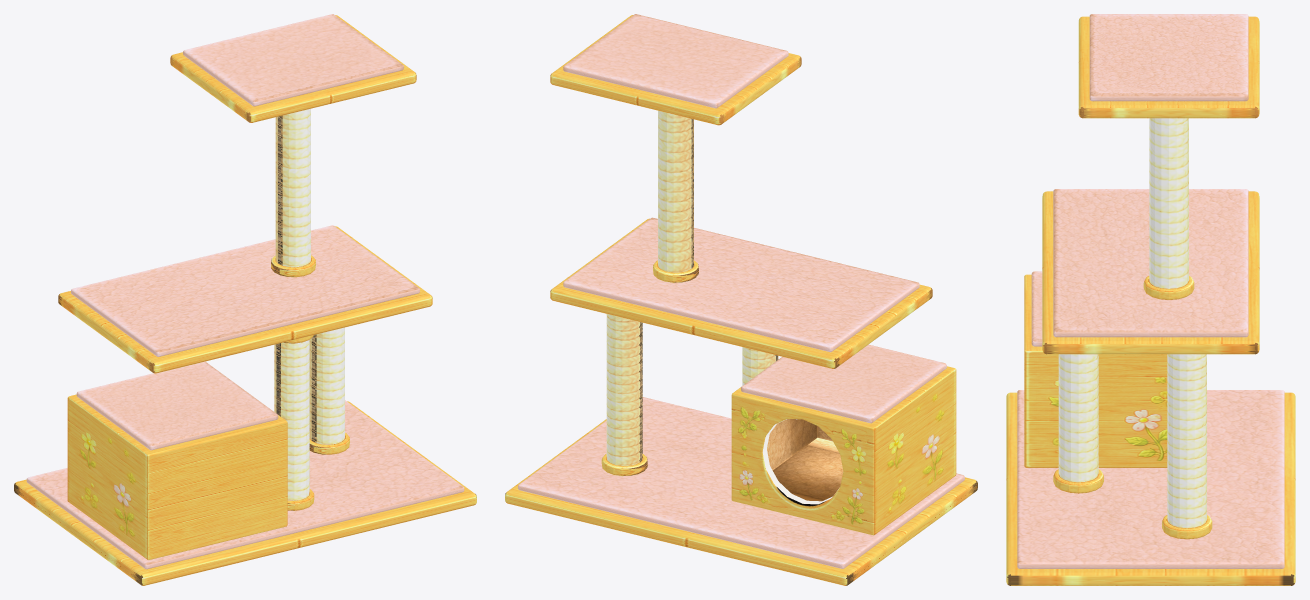
The model's file is cat_tower_purple_01_muted_unlit.glb.
3 renders of one model, left to right at view 1: azimuth 30°, elevation 25°; view 2: azimuth 150°, elevation 25°; view 3: azimuth 270°, elevation 25°, orthographic. The views are drawn at different scales.
Visible parts, largest first — view 1: cat_tower_mesh; view 2: cat_tower_mesh; view 3: cat_tower_mesh.
Part boxes in pixels (x1,y1,x2,y2): cat_tower_mesh: [14, 14, 476, 585]; cat_tower_mesh: [505, 14, 977, 585]; cat_tower_mesh: [1006, 14, 1295, 585].
Size of the model in its own units: 2.4 by 2.88 by 1.6.
Materials: 25 (24 with a texture image).
